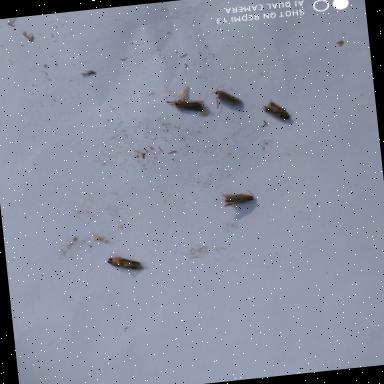pbw: (160, 83, 216, 113), (98, 248, 150, 280), (204, 77, 248, 112), (258, 92, 302, 126), (215, 187, 260, 211)
